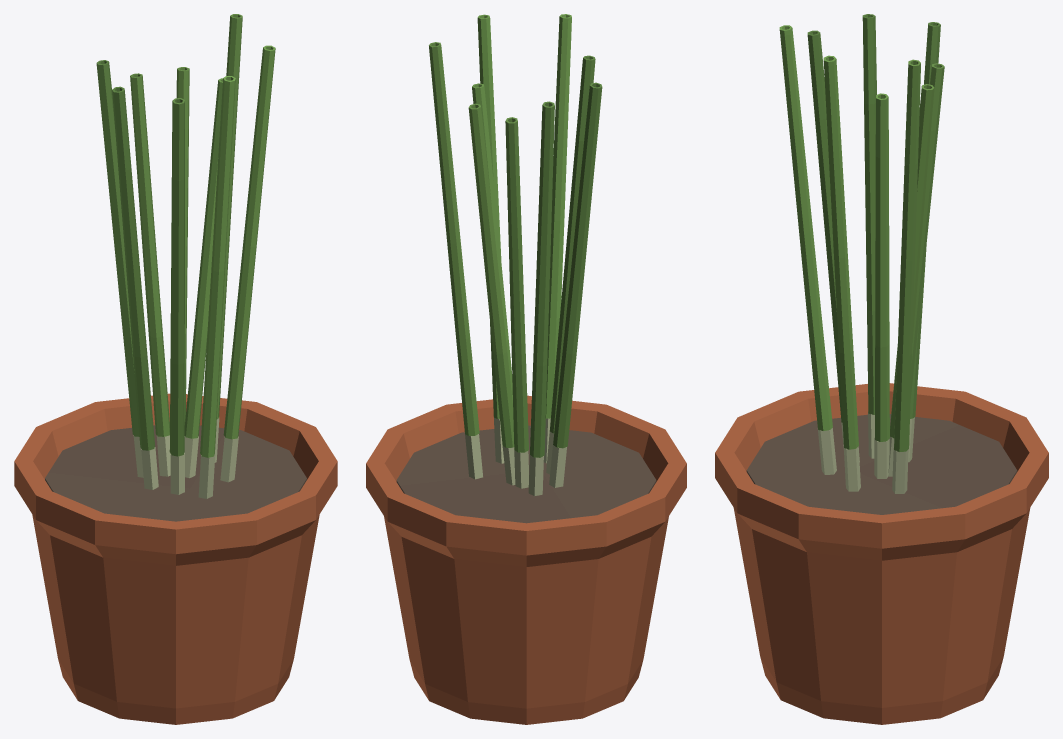
The model's file is grass.glb.
3 views of the same model, side by side, from view 1: azimuth 30°, elevation 25°; view 2: azimuth 150°, elevation 25°; view 3: azimuth 270°, elevation 25° (orthographic). The views are drawn at different scales.
Parts seen in each view (by area): view 1: grass/review-terra-vessel, grass/review-rooted-soil, grass/hollow-tubular-leaf-012, grass/hollow-tubular-leaf-006, grass/hollow-tubular-leaf-010, grass/hollow-tubular-leaf-014, grass/hollow-tubular-leaf-016, grass/hollow-tubular-leaf-002, grass/hollow-tubular-leaf-004, grass/hollow-tubular-leaf-018, grass/hollow-tubular-leaf-008, grass/white-sheath-011 (+3 smaller); view 2: grass/review-terra-vessel, grass/review-rooted-soil, grass/hollow-tubular-leaf-018, grass/hollow-tubular-leaf-010, grass/hollow-tubular-leaf-004, grass/hollow-tubular-leaf-006, grass/hollow-tubular-leaf-008, grass/hollow-tubular-leaf-014, grass/hollow-tubular-leaf-016, grass/hollow-tubular-leaf-012, grass/hollow-tubular-leaf-002, grass/white-sheath-017 (+3 smaller); view 3: grass/review-terra-vessel, grass/review-rooted-soil, grass/hollow-tubular-leaf-006, grass/hollow-tubular-leaf-012, grass/hollow-tubular-leaf-018, grass/hollow-tubular-leaf-002, grass/hollow-tubular-leaf-010, grass/hollow-tubular-leaf-016, grass/hollow-tubular-leaf-008, grass/hollow-tubular-leaf-014, grass/hollow-tubular-leaf-004, grass/white-sheath-005 (+3 smaller).
Boxes of the visible parts, bbox=[...] form: grass/review-terra-vessel: bbox=[14, 393, 337, 724]; grass/review-rooted-soil: bbox=[45, 425, 306, 521]; grass/hollow-tubular-leaf-012: bbox=[223, 45, 275, 439]; grass/hollow-tubular-leaf-006: bbox=[200, 76, 235, 457]; grass/hollow-tubular-leaf-010: bbox=[112, 86, 154, 450]; grass/hollow-tubular-leaf-014: bbox=[130, 73, 169, 436]; grass/hollow-tubular-leaf-016: bbox=[169, 98, 184, 456]; grass/hollow-tubular-leaf-002: bbox=[184, 78, 222, 438]; grass/hollow-tubular-leaf-004: bbox=[96, 60, 139, 436]; grass/hollow-tubular-leaf-018: bbox=[217, 14, 242, 419]; grass/hollow-tubular-leaf-008: bbox=[176, 67, 189, 424]; grass/white-sheath-011: bbox=[220, 436, 238, 482]; grass/review-terra-vessel: bbox=[366, 395, 686, 724]; grass/review-rooted-soil: bbox=[396, 425, 656, 523]; grass/hollow-tubular-leaf-018: bbox=[429, 42, 479, 435]; grass/hollow-tubular-leaf-010: bbox=[553, 82, 602, 448]; grass/hollow-tubular-leaf-004: bbox=[530, 101, 554, 457]; grass/hollow-tubular-leaf-006: bbox=[545, 14, 571, 418]; grass/hollow-tubular-leaf-008: bbox=[468, 103, 514, 447]; grass/hollow-tubular-leaf-014: bbox=[505, 117, 528, 452]; grass/hollow-tubular-leaf-016: bbox=[549, 55, 595, 433]; grass/hollow-tubular-leaf-012: bbox=[477, 14, 501, 418]; grass/hollow-tubular-leaf-002: bbox=[472, 83, 512, 402]; grass/white-sheath-017: bbox=[465, 434, 482, 479]; grass/review-terra-vessel: bbox=[715, 383, 1048, 724]; grass/review-rooted-soil: bbox=[746, 414, 1017, 514]; grass/hollow-tubular-leaf-006: bbox=[779, 25, 832, 430]; grass/hollow-tubular-leaf-012: bbox=[823, 55, 858, 449]; grass/hollow-tubular-leaf-018: bbox=[894, 59, 920, 451]; grass/hollow-tubular-leaf-002: bbox=[875, 93, 889, 441]; grass/hollow-tubular-leaf-010: bbox=[862, 14, 876, 414]; grass/hollow-tubular-leaf-016: bbox=[807, 30, 842, 422]; grass/hollow-tubular-leaf-008: bbox=[890, 84, 934, 438]; grass/hollow-tubular-leaf-014: bbox=[910, 63, 944, 398]; grass/hollow-tubular-leaf-004: bbox=[910, 22, 940, 418]; grass/white-sheath-005: bbox=[817, 428, 836, 474].
Bounding box in the file's own units: 0.19 × 0.4093 × 0.19.
4 materials, 4 textured.
